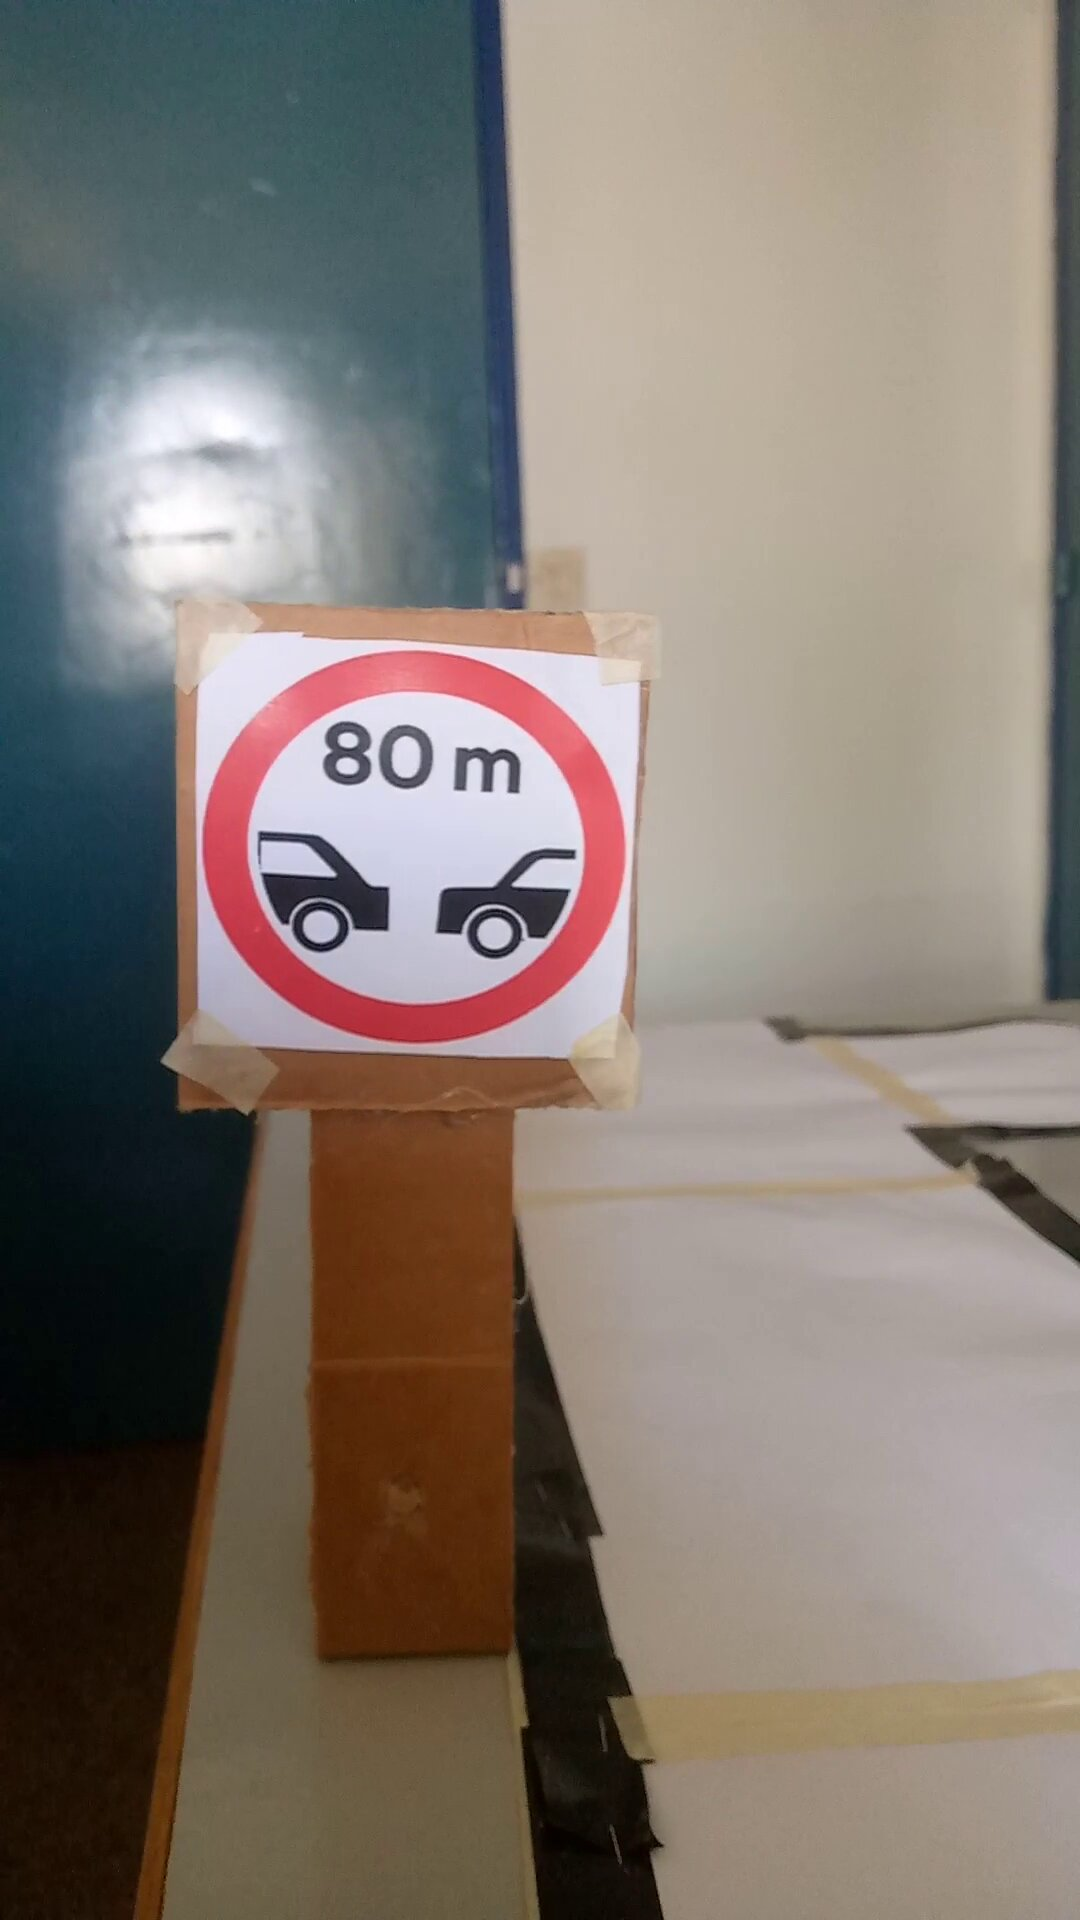panel001: (178, 593, 647, 1112)
